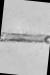N36: (1, 0, 50, 74)
